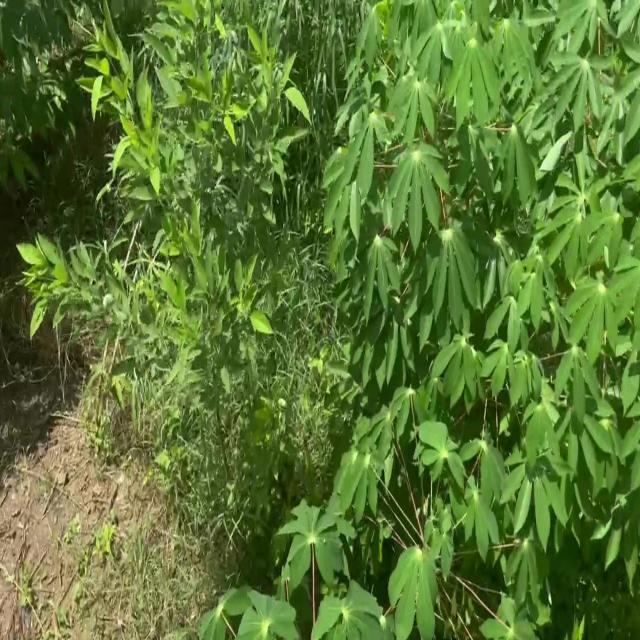Maleza: (12, 207, 280, 554), (69, 0, 306, 240), (192, 189, 332, 485)
Mosca: (464, 73, 476, 87), (331, 483, 341, 499), (561, 439, 574, 451), (363, 291, 370, 309), (321, 536, 329, 549), (383, 256, 390, 265)
